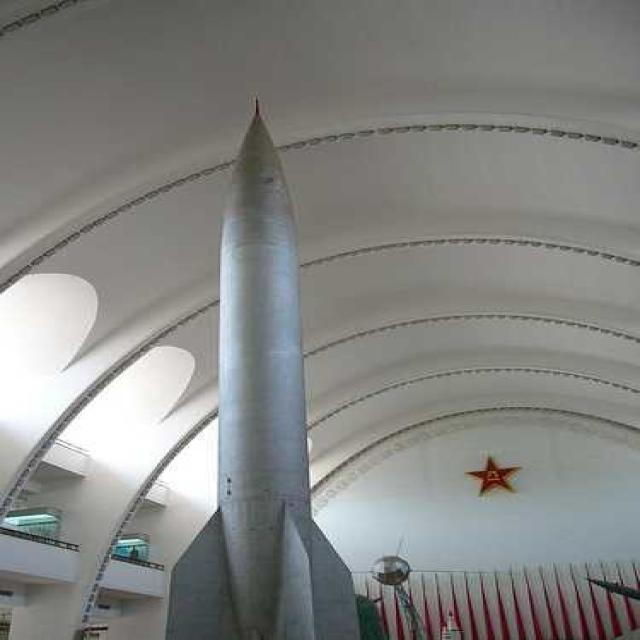missile: (164, 96, 374, 640)
